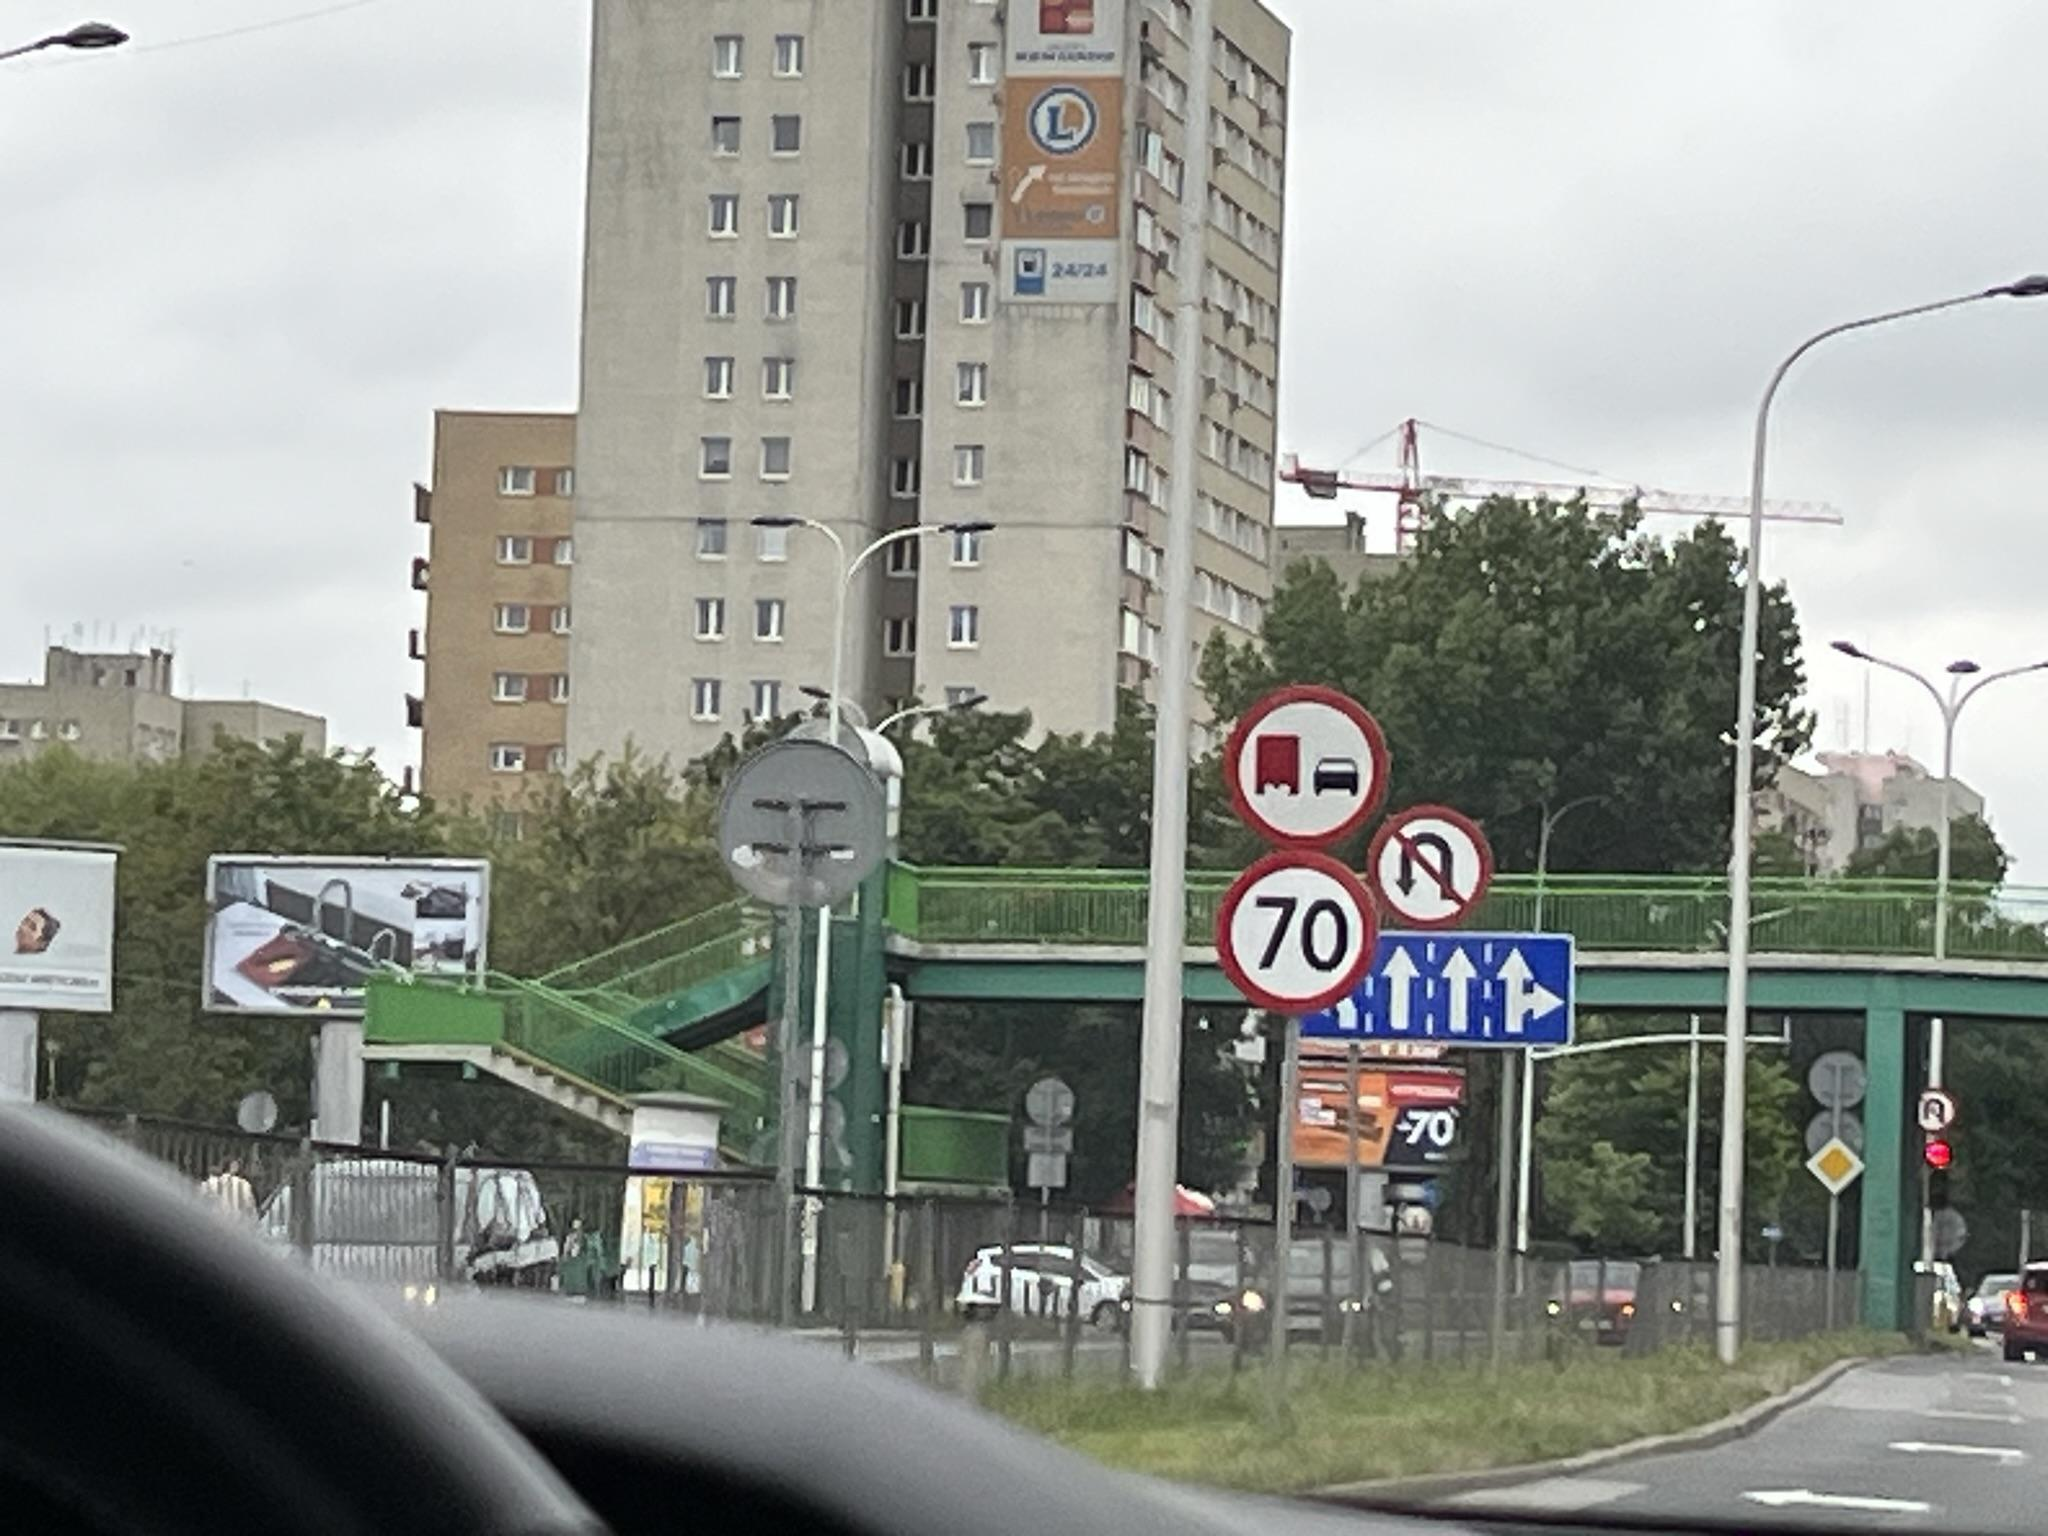information: (1804, 1134, 1866, 1196)
other: (1295, 929, 1577, 1047)
prohibitory: (1224, 684, 1392, 849), (1216, 849, 1377, 1018), (1366, 802, 1495, 929), (1917, 1084, 1959, 1134)
